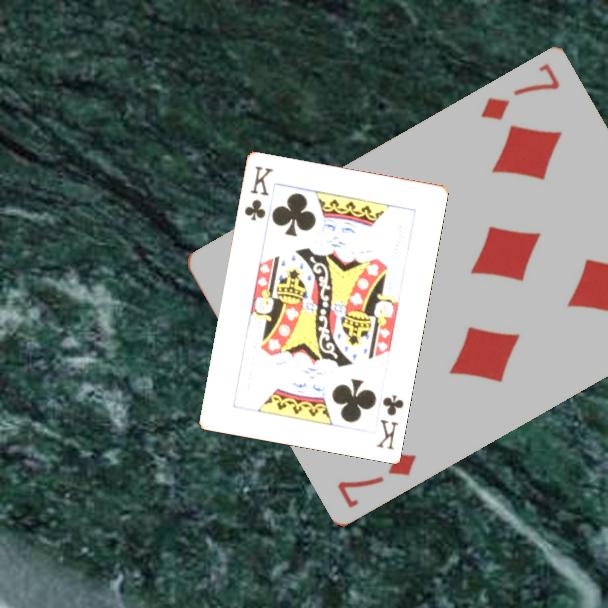c13: (241, 162, 276, 223), (372, 391, 407, 452)
d07: (477, 59, 563, 123), (333, 448, 419, 511)
